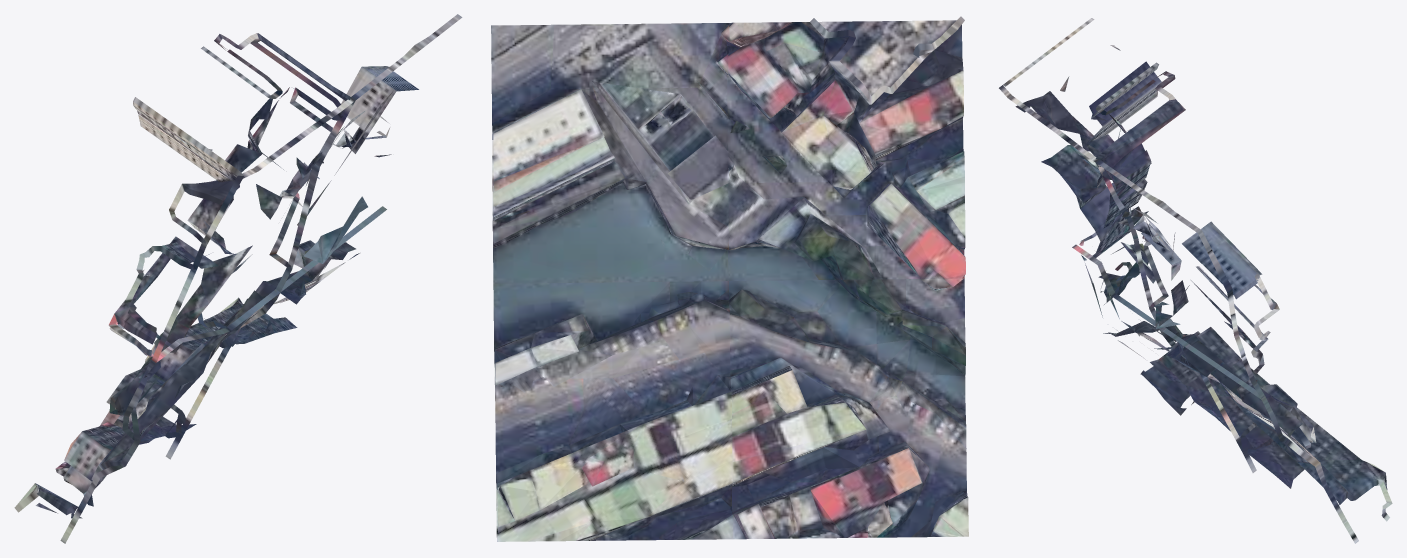
3 views of the same model, side by side, from view 1: azimuth 30°, elevation 25°; view 2: azimuth 150°, elevation 25°; view 3: azimuth 270°, elevation 25° (orthographic). The views are drawn at different scales.
Bounding box in the file's own units: 161 × 158 × 140.
1 material, 1 textured.
